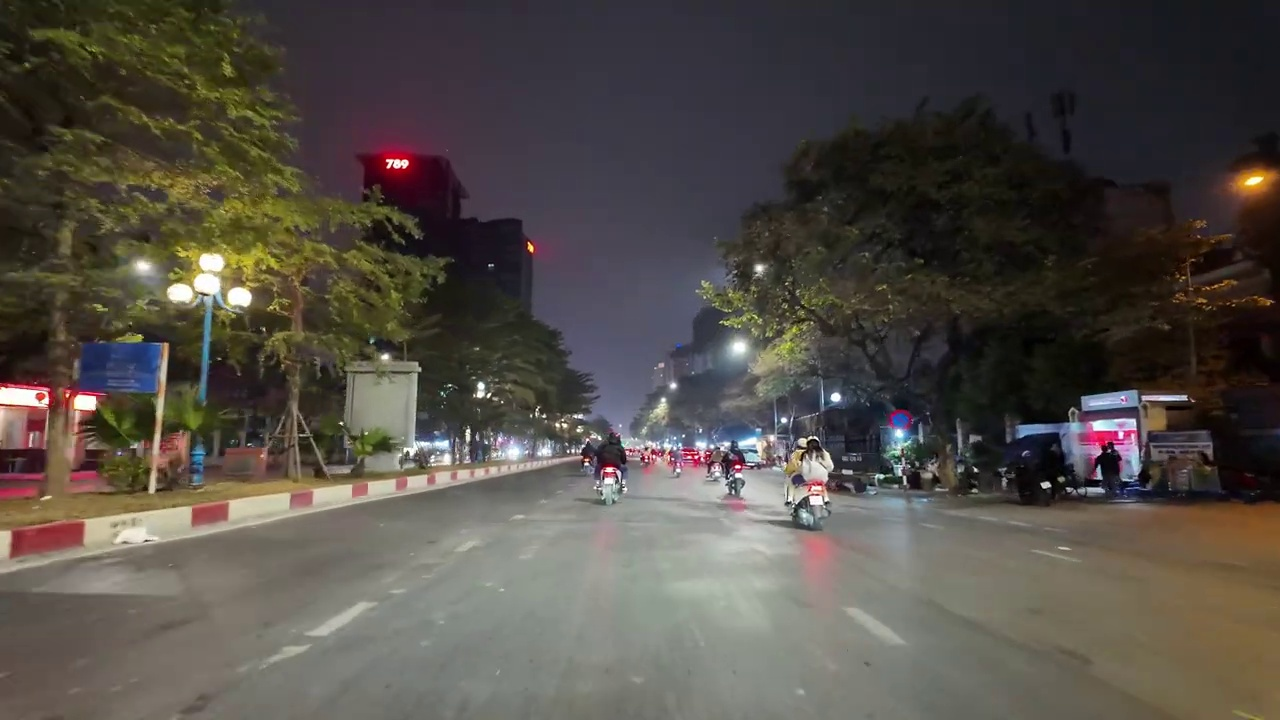acesa: (169, 249, 251, 318), (1234, 167, 1272, 197), (648, 399, 670, 423)
